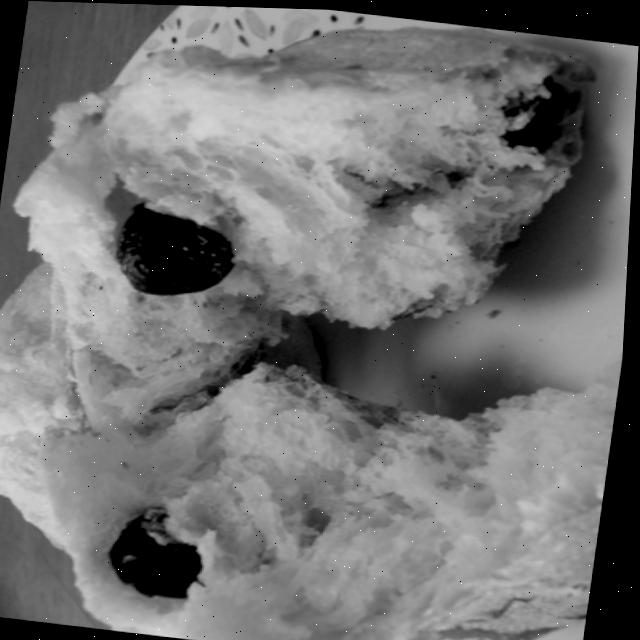面包点心: (0, 11, 640, 640)
